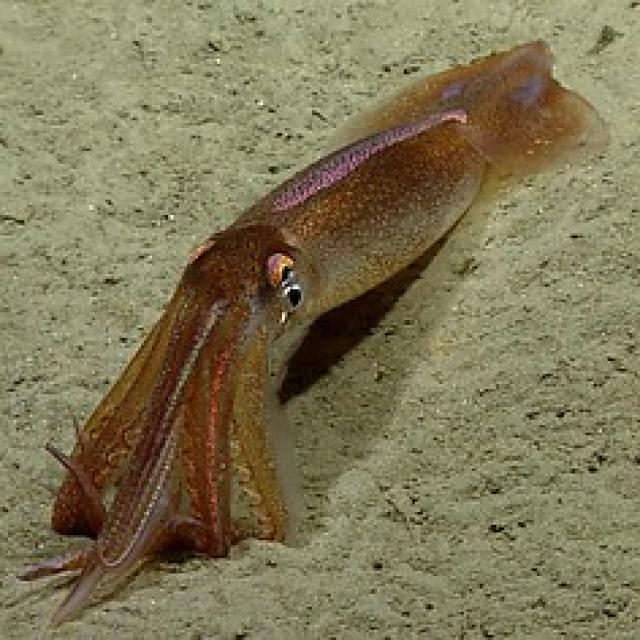SQUID: (0, 20, 610, 630)
